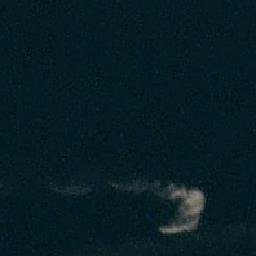debris: (158, 177, 209, 236), (114, 182, 155, 196), (49, 182, 94, 194)
